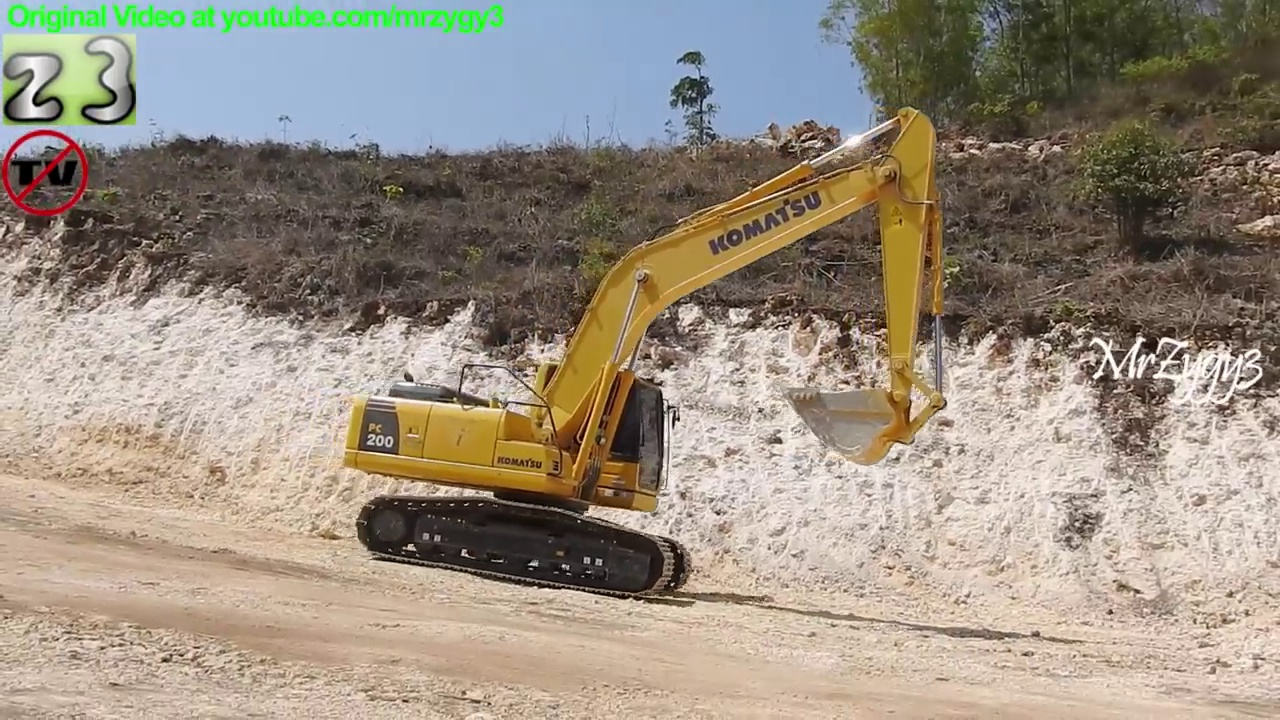excavator: (337, 103, 954, 603)
